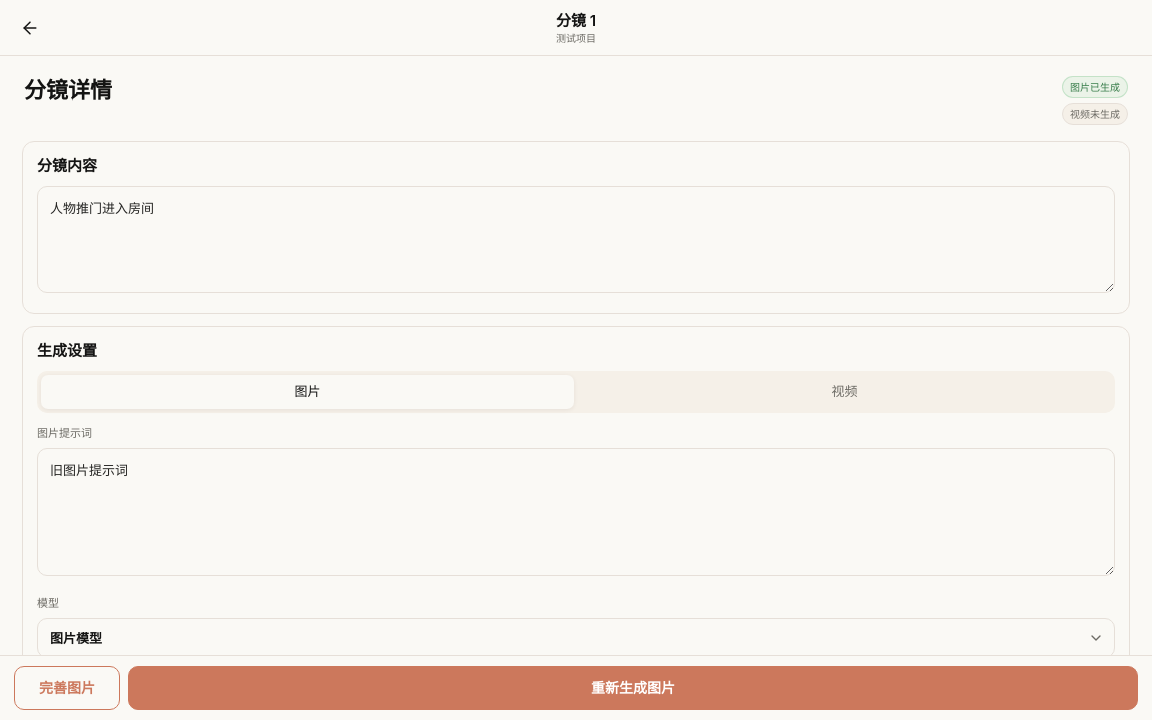
Test: MobileScenePreview › shows prompt editing and image or video parameters without a hidden toggle
Check: the text box labelled "图片提示词" is shown, box [37,448,1115,576]
Check: the text "模型" is shown, box [37,596,59,610]
Click the tab "视频" at (844, 392), box [578,375,1111,409]
(page scrolled)
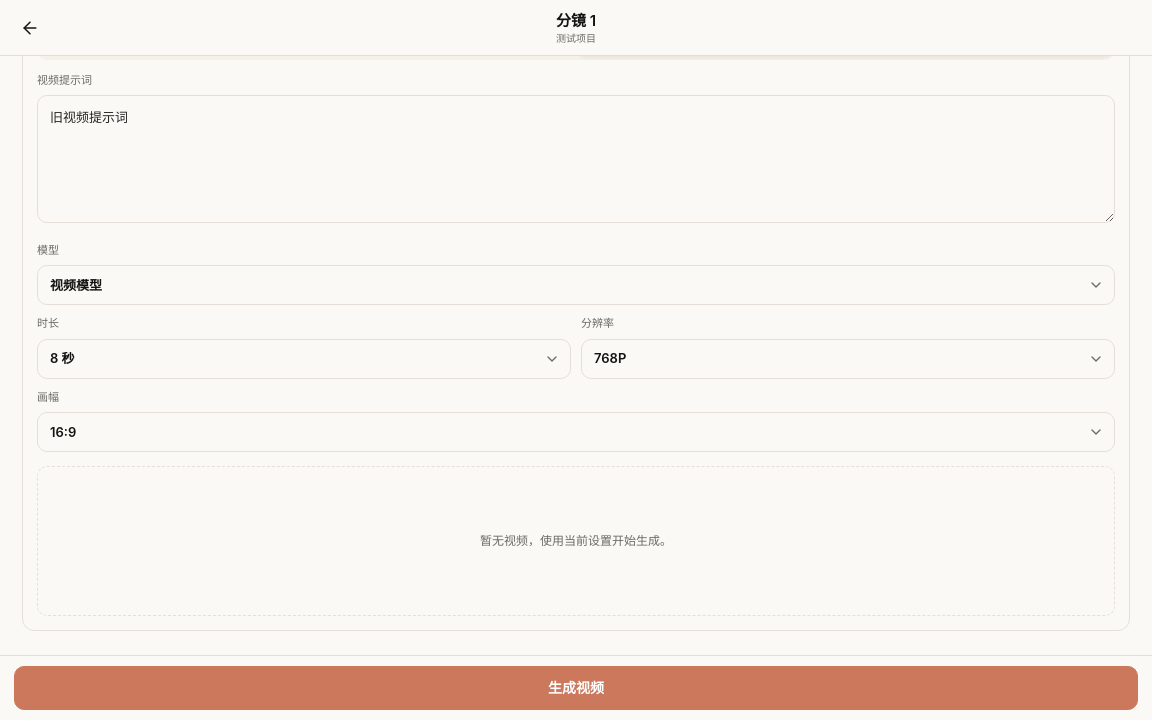
Check: the text box labelled "视频提示词" is shown, box [37,95,1115,223]
Check: the text "时长" is shown, box [37,316,59,330]
Check: the text "分辨率" is shown, box [581,316,614,330]
